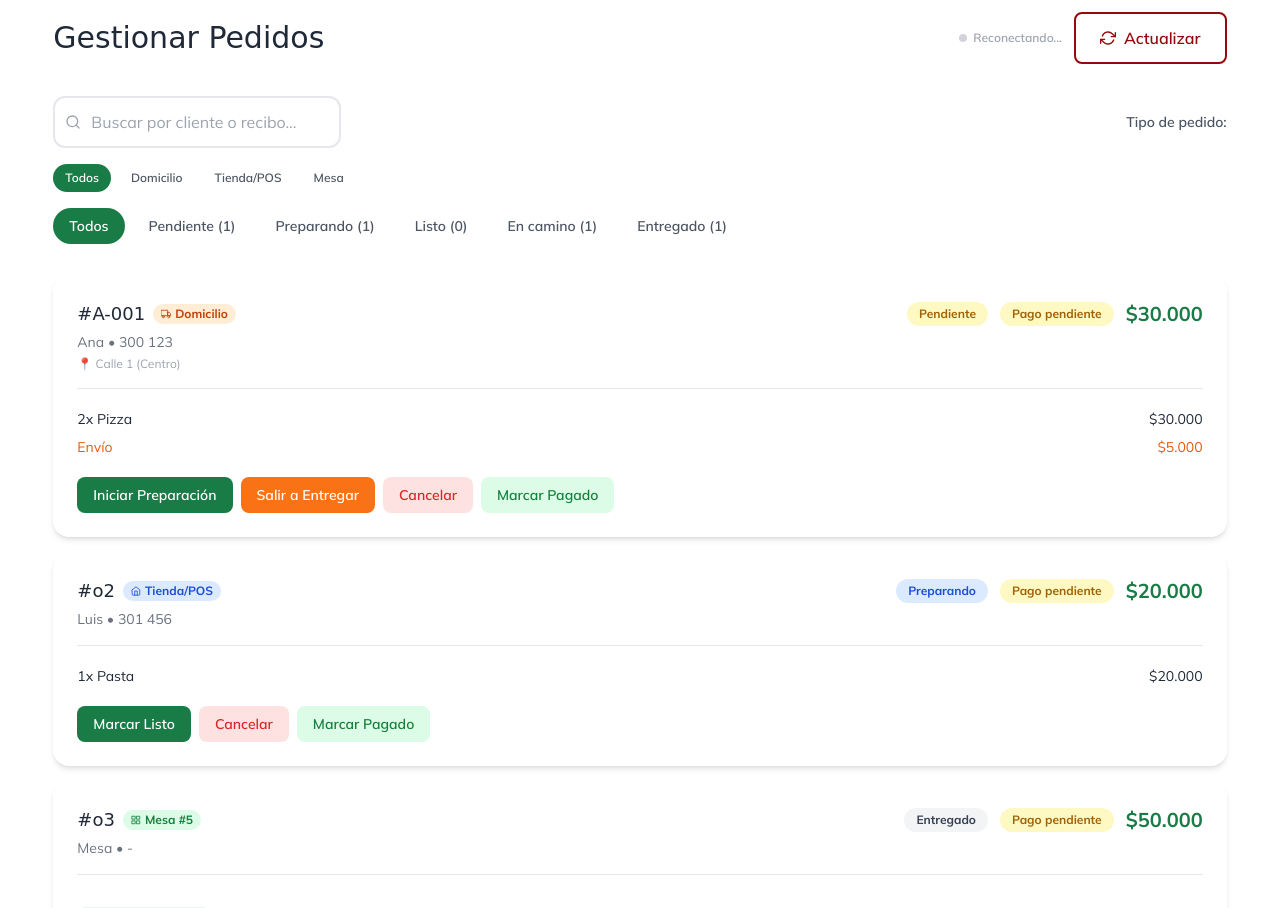
AdminOrders › filters orders by customer or receipt search
Expected: the heading "#A-001" is shown, x1=77 y1=300 x2=145 y2=328
Type "Ana" into the field named "Buscar pedidos" at [197, 122], box x1=53 y1=96 x2=341 y2=148
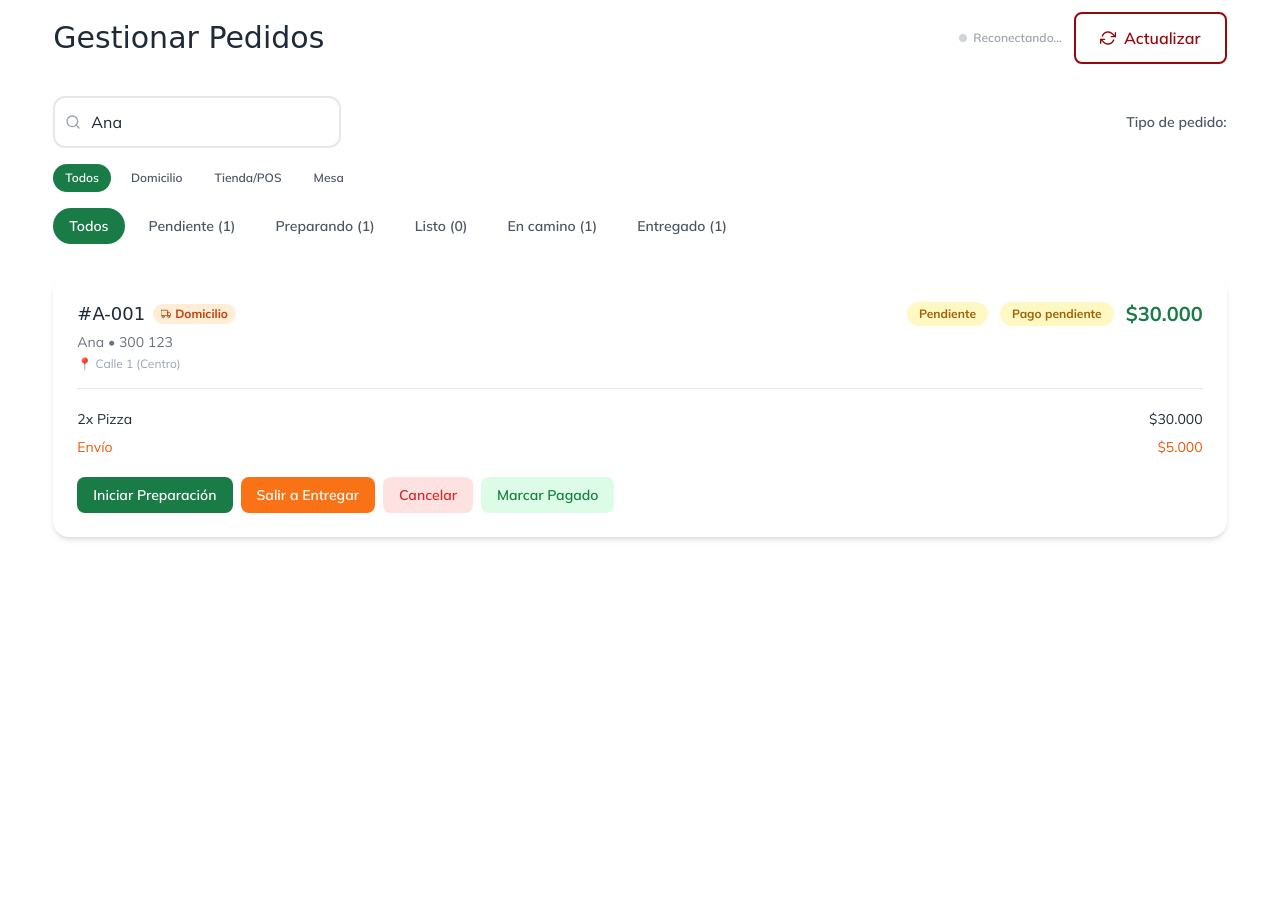
Expected: the text "Ana • 300 123" is shown, x1=77 y1=333 x2=173 y2=351
Now the text "Luis" is gone
Replace the text in the field named "Buscar pedidos" with "A-005" at [197, 122], box x1=53 y1=96 x2=341 y2=148
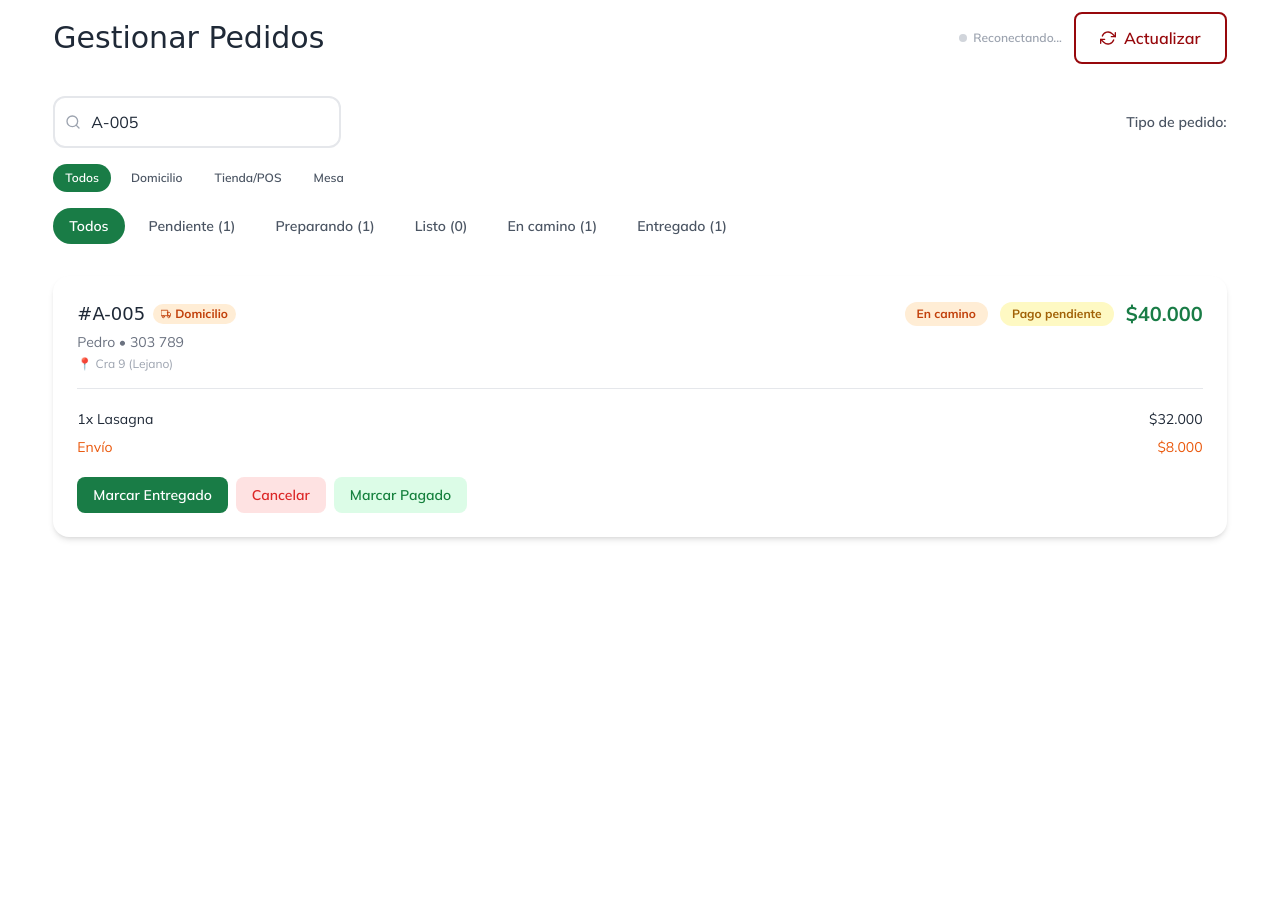
Now the text "Ana" is gone
Now the heading "#A-005" is shown, box x1=77 y1=300 x2=145 y2=328
